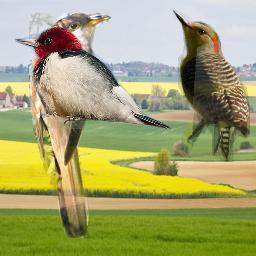Cuckoo: (29, 13, 111, 238)
Woodpecker: (14, 27, 173, 129), (172, 10, 250, 162)
